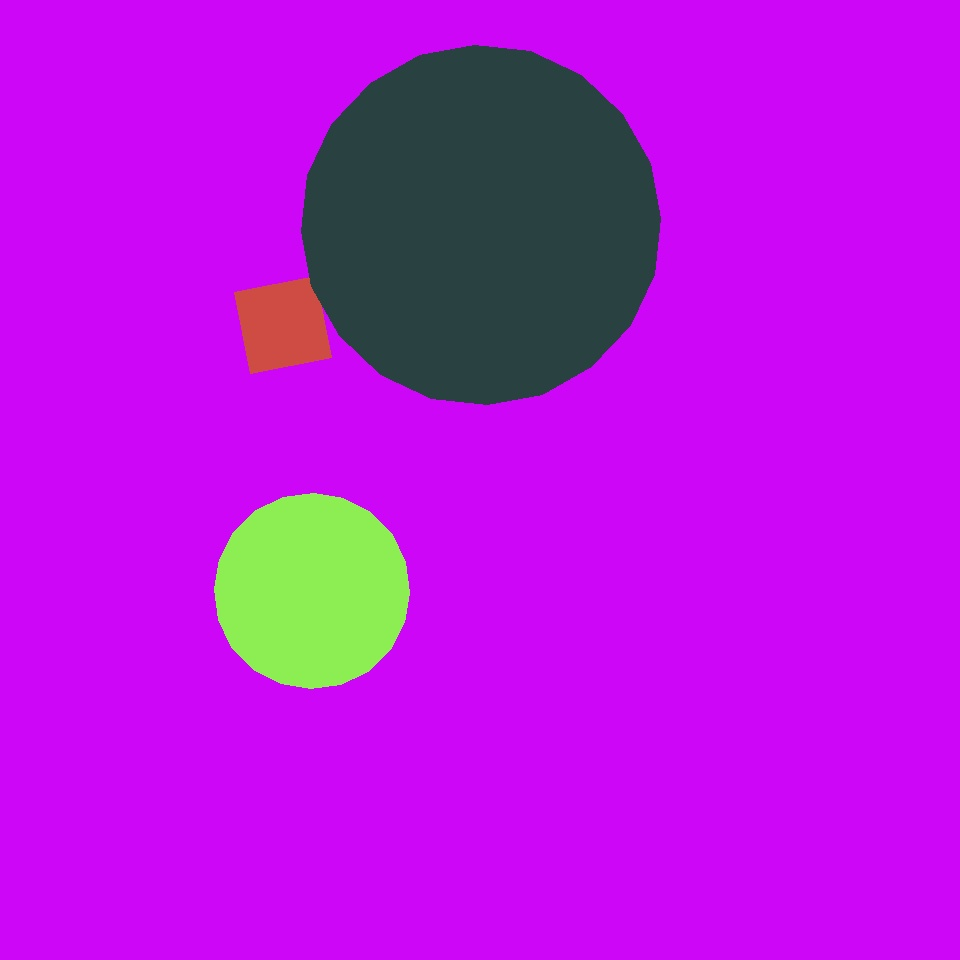circle: (369, 432, 580, 655), (674, 124, 866, 337)
square: (166, 197, 329, 360), (53, 748, 216, 911), (234, 276, 332, 374), (479, 644, 565, 731)
triangle: (302, 46, 661, 404), (137, 587, 431, 880), (214, 494, 410, 688)
